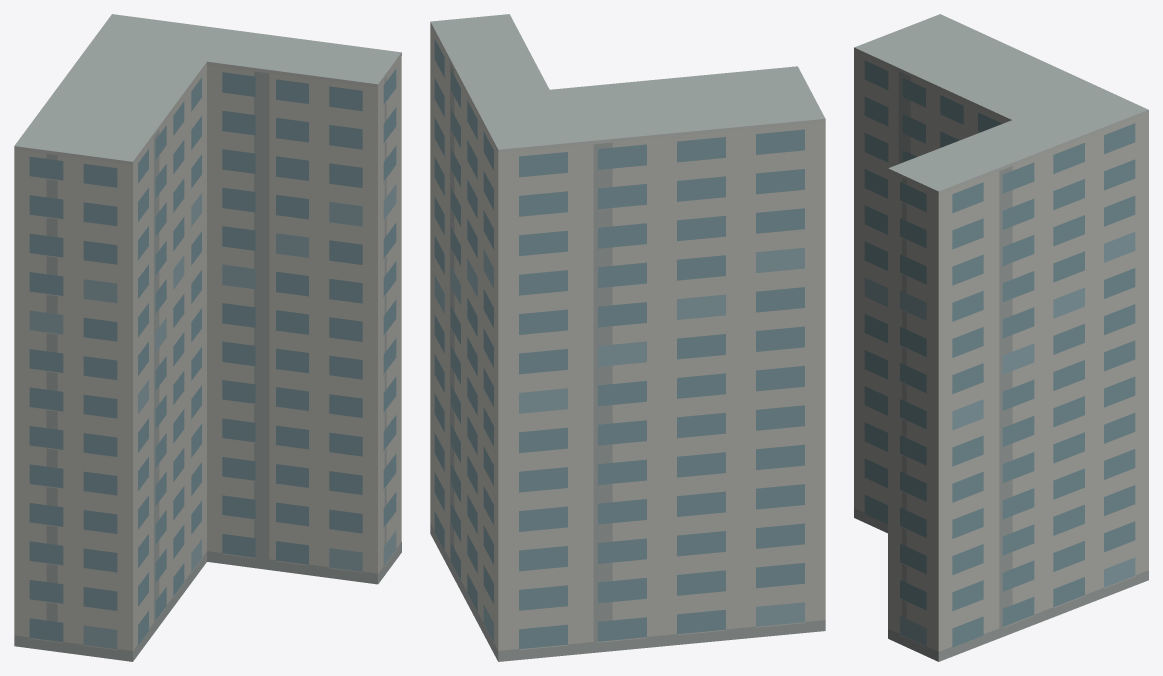
The model's file is residential-19873351-5f07-4a35-8248-721de1874b93.glb.
3 renders of one model, left to right at view 1: azimuth 30°, elevation 25°; view 2: azimuth 150°, elevation 25°; view 3: azimuth 270°, elevation 25°, orthographic. The views are drawn at different scales.
Parts seen in each view (by area): view 1: residential-19873351-5f07-4a35-8248-721de1874b93.tmp; view 2: residential-19873351-5f07-4a35-8248-721de1874b93.tmp; view 3: residential-19873351-5f07-4a35-8248-721de1874b93.tmp.
Boxes of the visible parts, box(x1,y1,x2,y2) form: residential-19873351-5f07-4a35-8248-721de1874b93.tmp: box(14, 14, 401, 661); residential-19873351-5f07-4a35-8248-721de1874b93.tmp: box(430, 14, 825, 661); residential-19873351-5f07-4a35-8248-721de1874b93.tmp: box(854, 14, 1148, 661).
Bounding box in the file's own units: 28.33 × 35 × 19.88.
